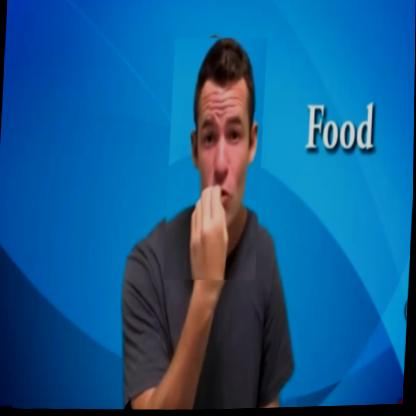Food: (164, 37, 267, 284)
